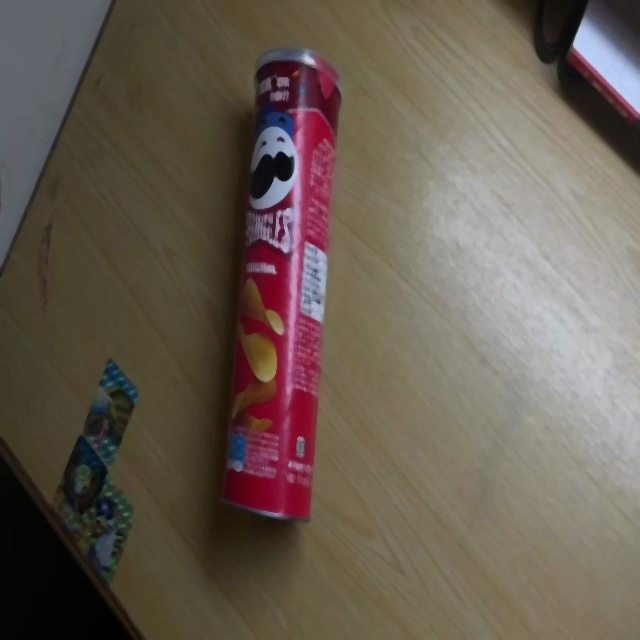Pringles: (224, 48, 343, 521)
